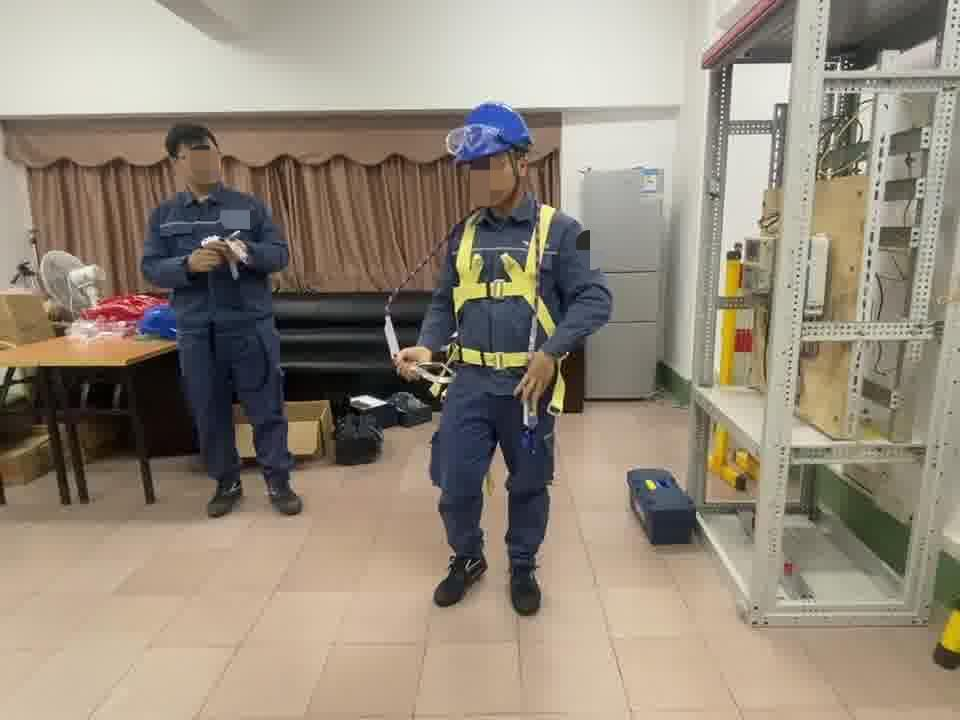halt: (452, 104, 537, 207)
inear: (507, 149, 534, 191)
unhalt: (167, 122, 227, 194)
